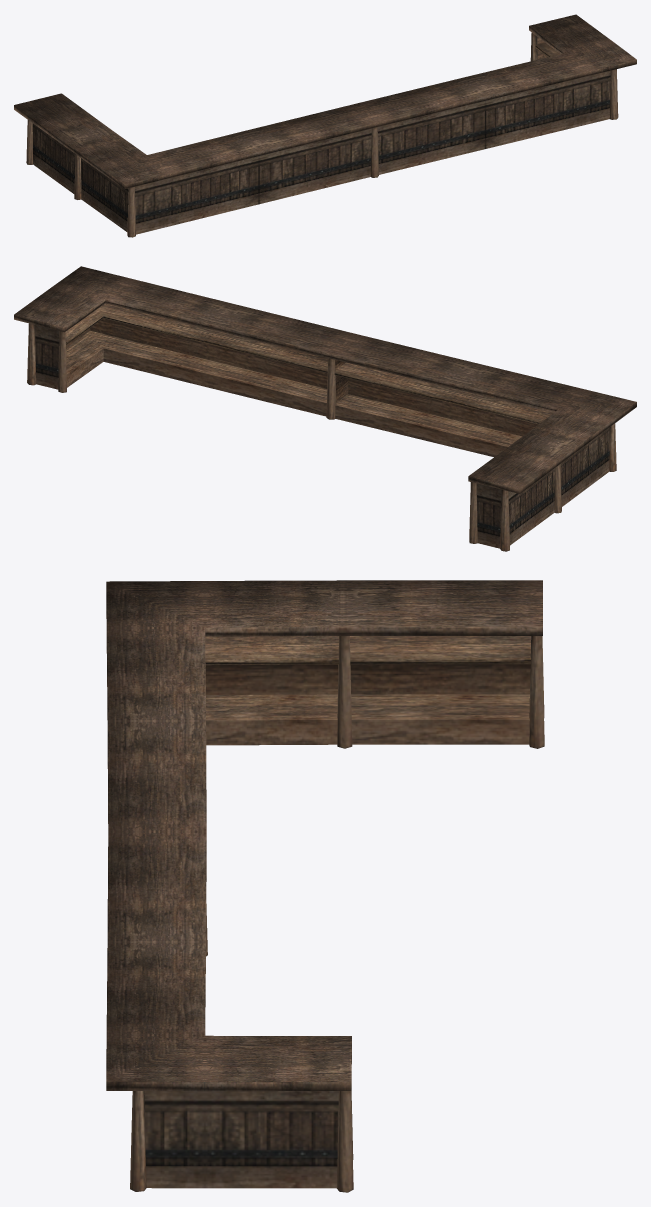
Rendered from d_sg_shouyou_zhuozi02a_qt.FBX.
3 views of the same model, one above another, from view 1: azimuth 30°, elevation 25°; view 2: azimuth 150°, elevation 25°; view 3: azimuth 270°, elevation 25° (orthographic). The views are drawn at different scales.
Visible parts, largest first — view 1: d_sg_shouyou_zhuozi02_qt; view 2: d_sg_shouyou_zhuozi02_qt; view 3: d_sg_shouyou_zhuozi02_qt.
Part boxes in pixels (x1,y1,x2,y2): d_sg_shouyou_zhuozi02_qt: (14, 14, 636, 237); d_sg_shouyou_zhuozi02_qt: (14, 266, 636, 551); d_sg_shouyou_zhuozi02_qt: (106, 580, 544, 1192).
Bounding box in the file's own units: 11.6 × 1.32 × 4.28.
